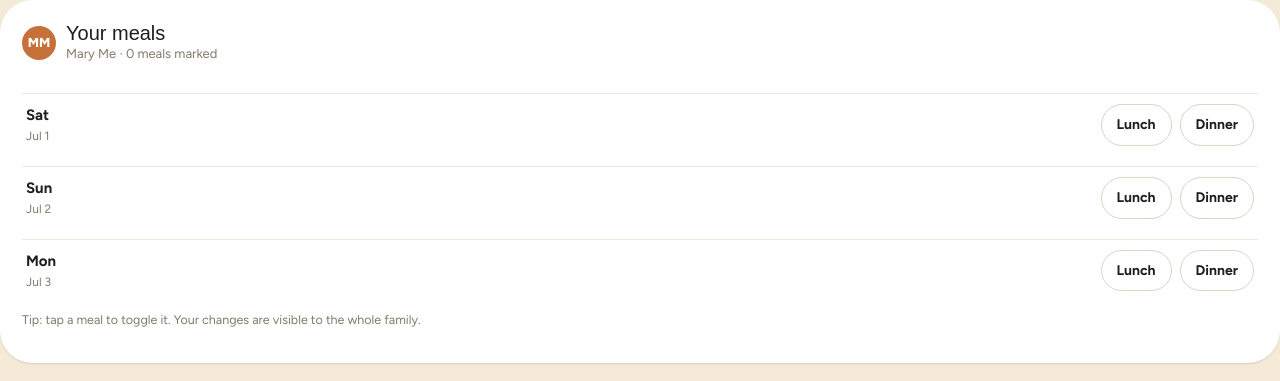
Test case: CAP-011 Meal RSVPs — Your meals › CAP-011 · Marking a meal
This screenshot has width=1280, height=381.
Expected: the text "Mary Me · 0 meals marked" is shown, [66,44,217,64]
Step 1. Click the button "Lunch" in the row of "Jul 1" → point(1136, 125), box [1100,104,1172,146]
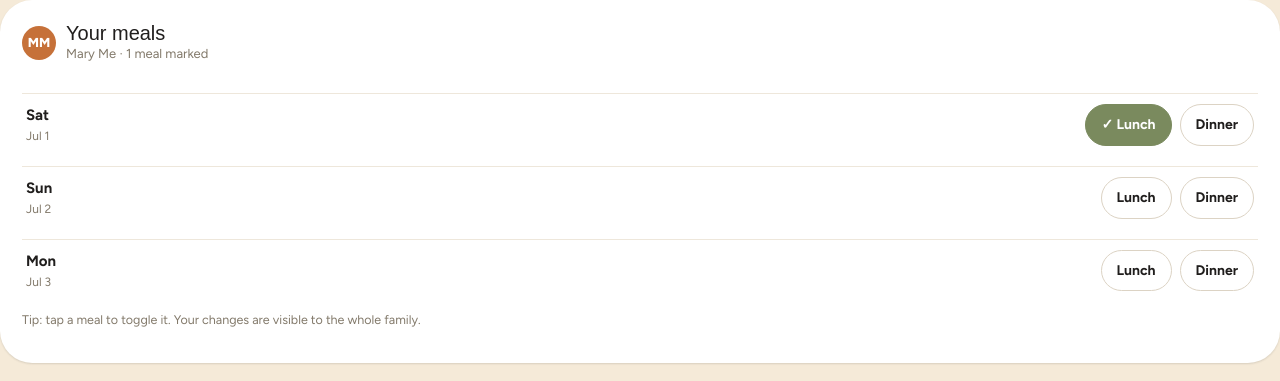
Expected: the button "Dinner" in the row of "Jul 1" is shown, [1180,104,1254,146]
Expected: the button "✓ Lunch" is shown, [1086,104,1172,146]
Expected: the text "Mary Me · 1 meal marked" is shown, [66,44,208,64]
